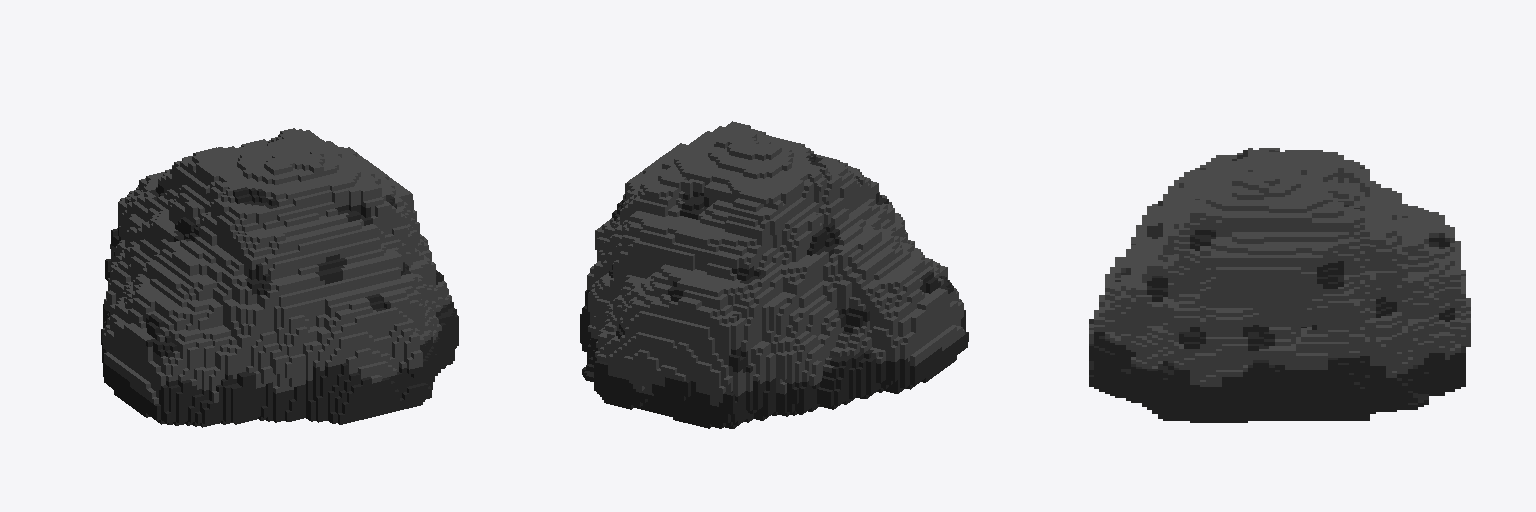
3 renders of one model, left to right at view 1: azimuth 30°, elevation 25°; view 2: azimuth 150°, elevation 25°; view 3: azimuth 270°, elevation 25°, orthographic.
Parts seen in each view (by area): view 1: GameObject_rock_2; view 2: GameObject_rock_2; view 3: GameObject_rock_2.
Part boxes in pixels (x1,y1,x2,y2): GameObject_rock_2: (101, 128, 458, 427); GameObject_rock_2: (580, 121, 968, 428); GameObject_rock_2: (1089, 148, 1470, 422).
Bounding box in the file's own units: 6.5 × 4 × 7.2.
Materials: 1 (1 with a texture image).